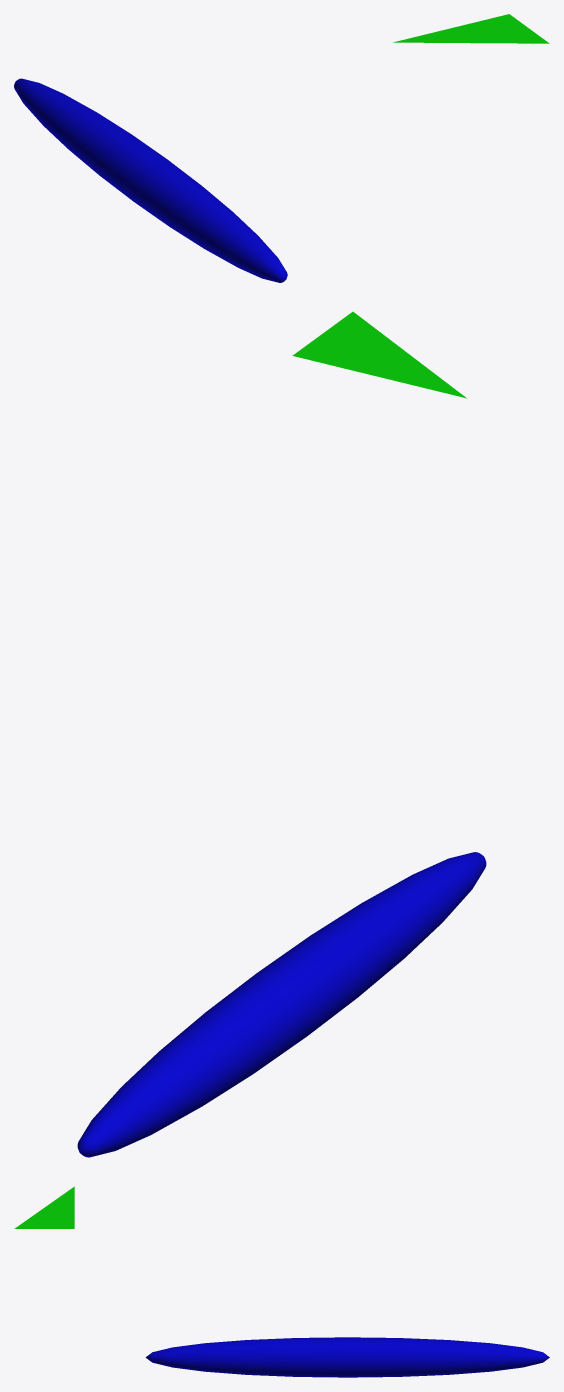
Rendered from test-data.dae.
3 views of the same model, one above another, from view 1: azimuth 30°, elevation 25°; view 2: azimuth 150°, elevation 25°; view 3: azimuth 270°, elevation 25° (orthographic). The views are drawn at different scales.
Visible parts, largest first — view 1: Mesh, Mesh__2_; view 2: Mesh, Mesh__2_; view 3: Mesh, Mesh__2_.
Part boxes in pixels (left/top/right/bottom): Mesh: left=14, top=78, right=287, bottom=282; Mesh__2_: left=393, top=14, right=549, bottom=43; Mesh: left=77, top=852, right=486, bottom=1157; Mesh__2_: left=292, top=311, right=466, bottom=398; Mesh: left=145, top=1337, right=549, bottom=1377; Mesh__2_: left=14, top=1186, right=74, bottom=1228.
Bounding box in the file's own units: 0.85 × 1.15 × 2.65.
